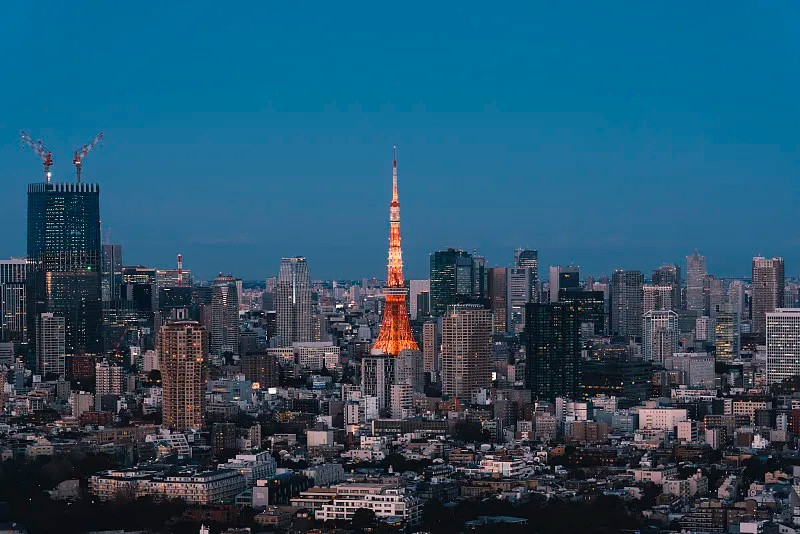Tokyo: (370, 144, 421, 359)
